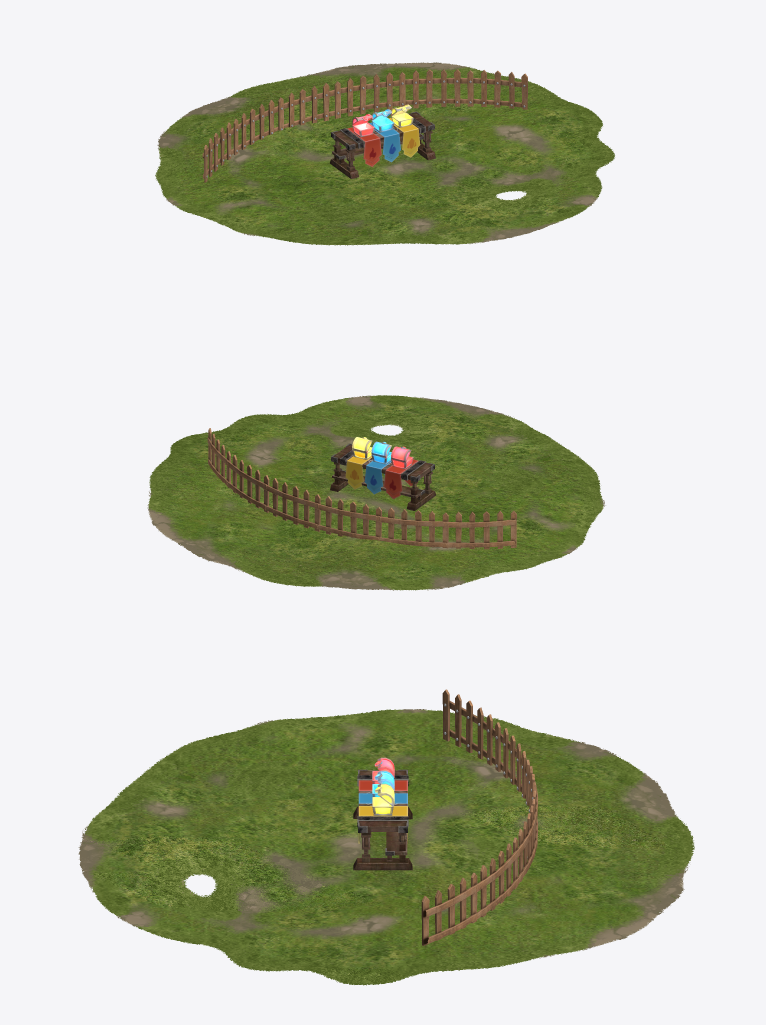
The model's file is SC_LanBoShu.fbx.
The picture shows the model from 3 angles, top to bottom: view 1: azimuth 30°, elevation 25°; view 2: azimuth 150°, elevation 25°; view 3: azimuth 270°, elevation 25°; orthographic projection. The views are drawn at different scales.
Visible parts, largest first — view 1: ground, wood03, desk; view 2: ground, wood03, desk; view 3: ground, wood03, desk, box_y.
Part boxes in pixels (bbox=[...]): ground: bbox=[155, 62, 614, 245]; wood03: bbox=[202, 69, 527, 182]; desk: bbox=[330, 111, 435, 178]; ground: bbox=[147, 395, 605, 590]; wood03: bbox=[207, 428, 516, 549]; desk: bbox=[330, 443, 435, 510]; ground: bbox=[78, 709, 694, 985]; wood03: bbox=[421, 689, 537, 945]; desk: bbox=[353, 769, 412, 870]; box_y: bbox=[372, 783, 394, 815].
Bounding box in the file's own units: 1787 × 216 × 1787.
